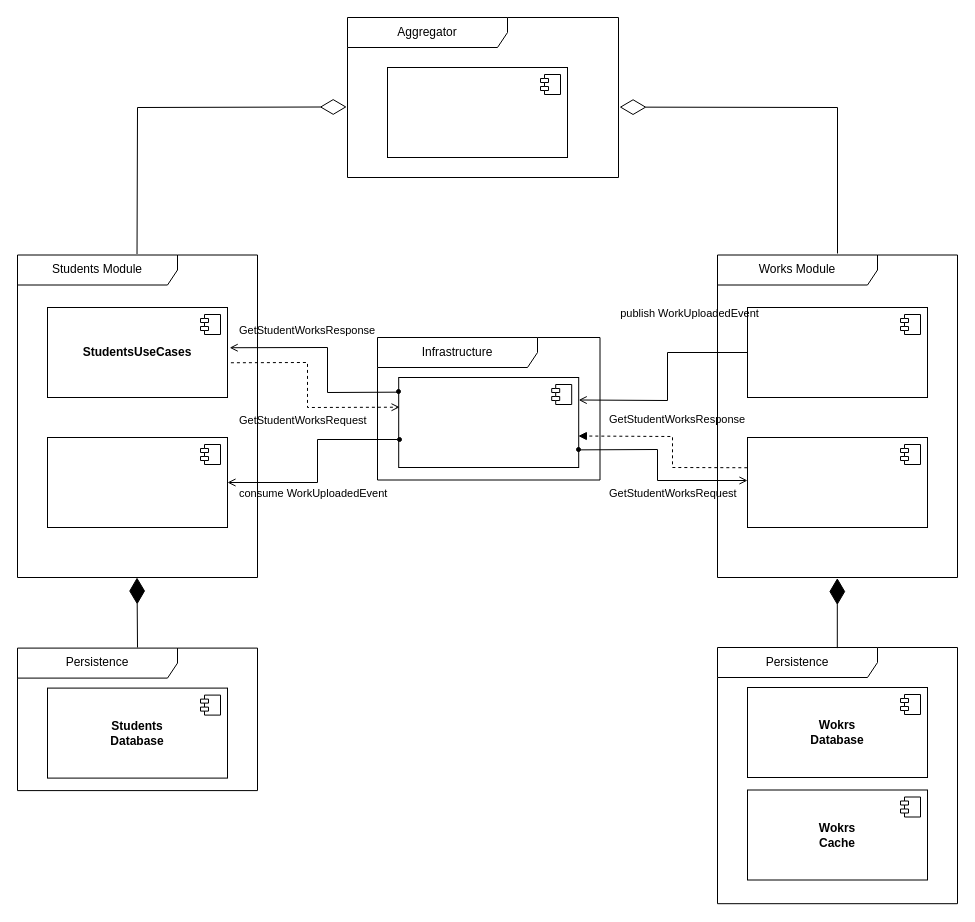
Some shapes in this 975 by 922 pixel diagram are drawn without their labels. The centre of each missing label's shape, as x and y in pixels:
API: [477,112]
StudentsConsumer: [137,482]
WorkConsumer: [837,482]
WorksUseCases: [837,352]
«Message bus» RabitMq: [488,422]
